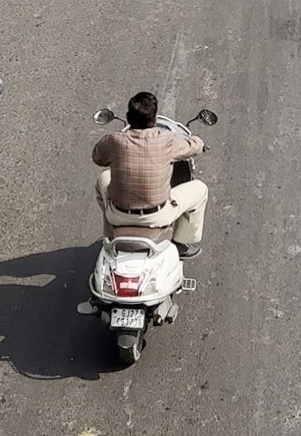BikeWithRider: (73, 79, 235, 368)
NoHelmet: (124, 89, 164, 132)
